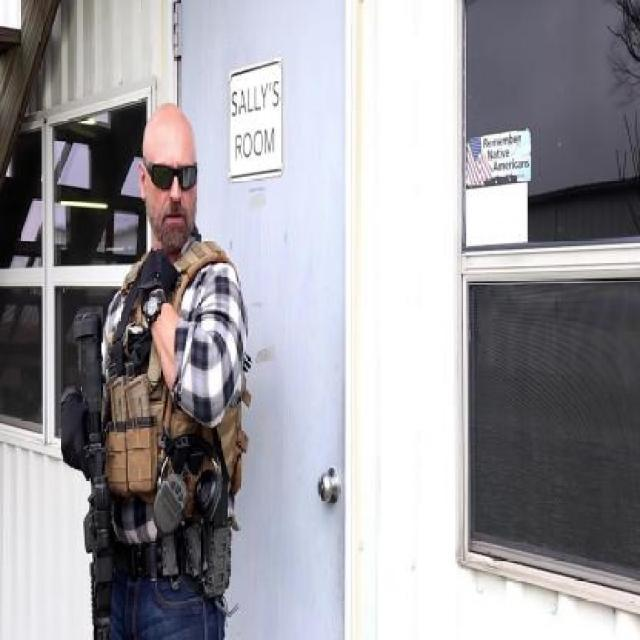Rifle: (68, 292, 120, 640)
